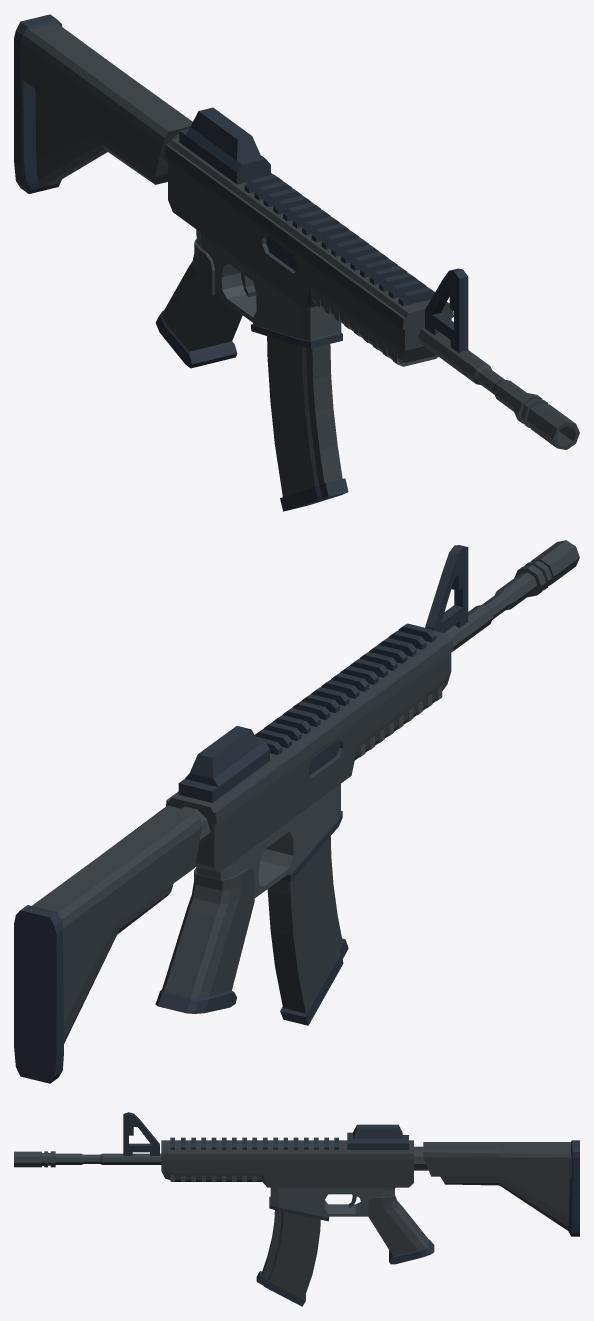
The model's file is rifle_ar_2.glb.
3 renders of one model, top to bottom at view 1: azimuth 30°, elevation 25°; view 2: azimuth 150°, elevation 25°; view 3: azimuth 270°, elevation 25°, orthographic. The views are drawn at different scales.
Parts seen in each view (by area): view 1: rifle_ar_2; view 2: rifle_ar_2; view 3: rifle_ar_2.
Boxes of the visible parts, x1,y1,x2,y2 form: rifle_ar_2: (14, 14, 579, 511); rifle_ar_2: (14, 540, 579, 1083); rifle_ar_2: (14, 1112, 579, 1306).
Size of the model in its own units: 0.0479 by 0.3187 by 0.8591.
